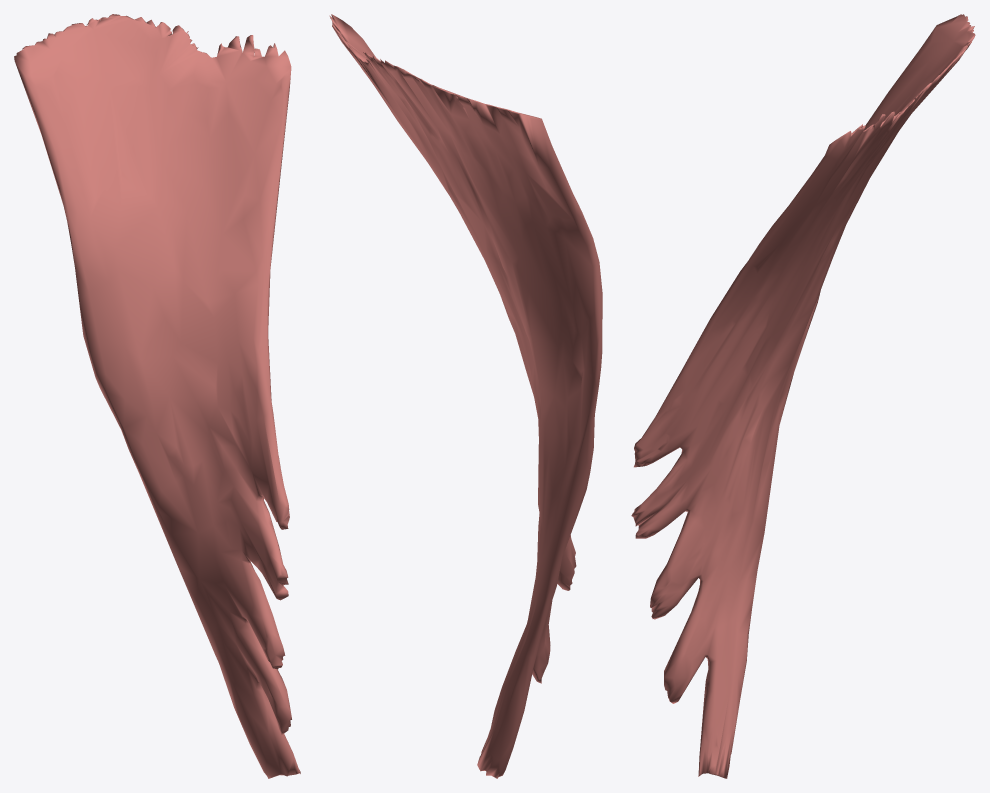
3 renders of one model, left to right at view 1: azimuth 30°, elevation 25°; view 2: azimuth 150°, elevation 25°; view 3: azimuth 270°, elevation 25°, orthographic. The views are drawn at different scales.
Visible parts, largest first — view 1: ZA_ad194d5f032cf5a8; view 2: ZA_ad194d5f032cf5a8; view 3: ZA_ad194d5f032cf5a8.
Part boxes in pixels (box(x1,y1,x2,y2)): ZA_ad194d5f032cf5a8: box(14, 14, 300, 778); ZA_ad194d5f032cf5a8: box(329, 14, 602, 778); ZA_ad194d5f032cf5a8: box(631, 14, 975, 778).
Size of the model in its own units: 0.0415 by 0.1241 by 0.0546.
